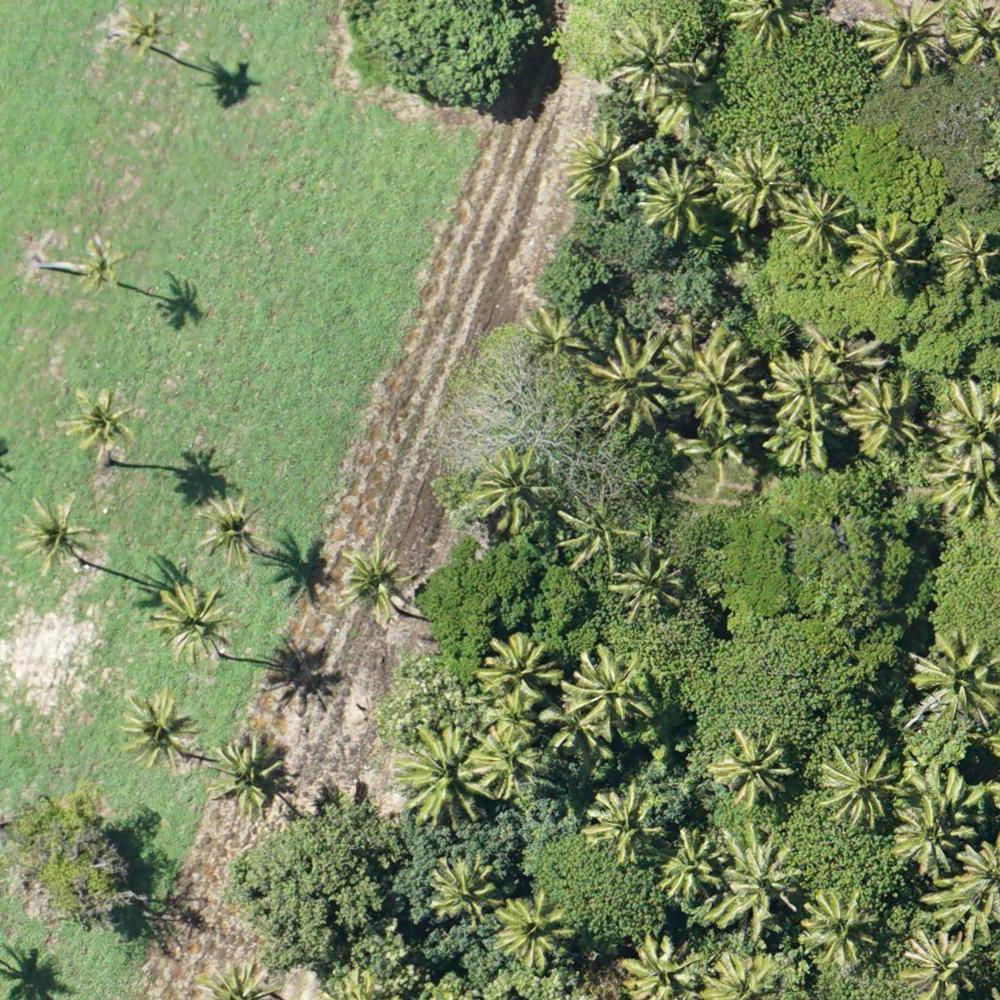Palm: (397, 725, 485, 826), (564, 643, 652, 738), (915, 634, 999, 731), (592, 329, 670, 426), (608, 16, 692, 106), (671, 334, 754, 422), (857, 2, 947, 83), (825, 741, 906, 830), (482, 632, 565, 716), (150, 582, 233, 665), (471, 445, 551, 529), (216, 732, 296, 815), (711, 726, 791, 808), (119, 693, 202, 772), (491, 894, 570, 975), (637, 163, 718, 241), (719, 142, 796, 222), (846, 376, 922, 457), (771, 350, 843, 435), (19, 498, 97, 575), (803, 890, 879, 969), (554, 495, 639, 565), (563, 124, 635, 205), (585, 786, 661, 862), (728, 843, 799, 924), (620, 931, 701, 1000), (893, 798, 967, 873), (851, 221, 926, 295), (343, 538, 411, 618), (936, 378, 1000, 461), (197, 495, 263, 571), (904, 932, 977, 1000), (63, 384, 131, 456), (471, 726, 537, 797), (787, 188, 853, 258), (657, 830, 721, 899), (616, 557, 685, 619), (432, 858, 496, 922), (941, 221, 996, 286), (945, 1, 1000, 66), (78, 232, 123, 297), (119, 8, 173, 62)
